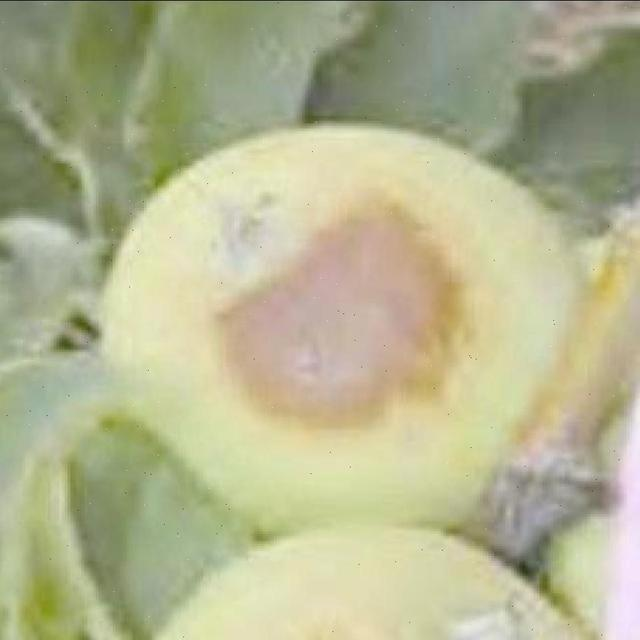Sunscald Fruit: (136, 117, 313, 296)
